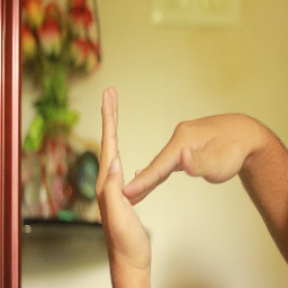Z: (79, 73, 252, 271)
